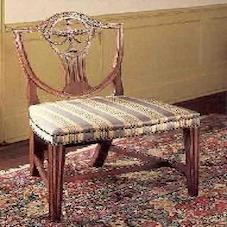chair: (7, 9, 210, 215)
